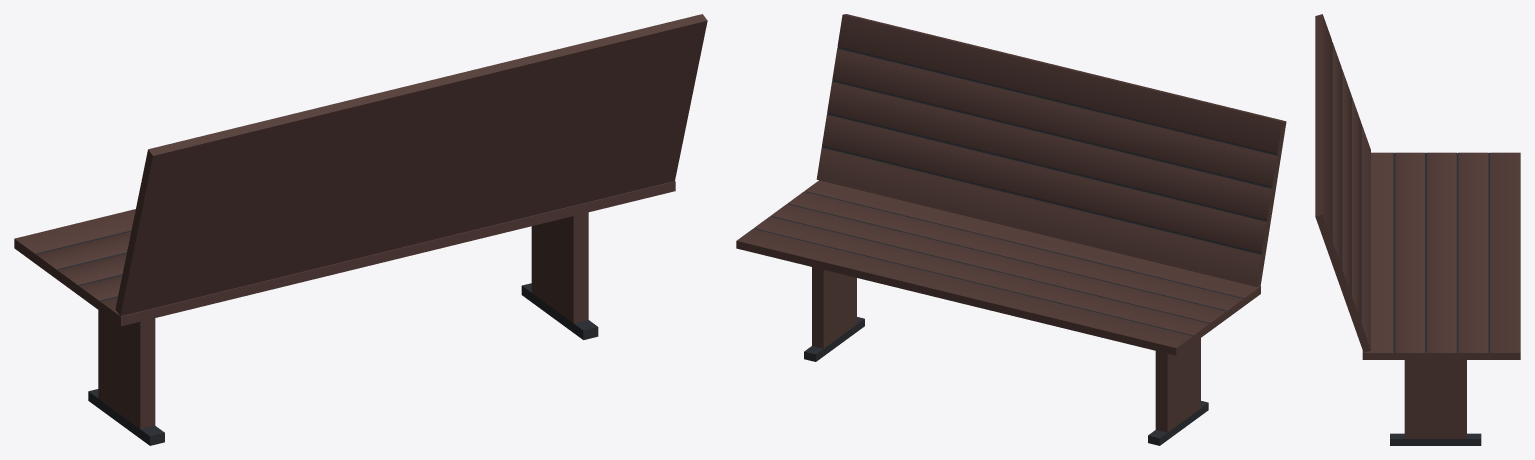
Rendered from Bench1.fbx.
3 renders of one model, left to right at view 1: azimuth 30°, elevation 25°; view 2: azimuth 150°, elevation 25°; view 3: azimuth 270°, elevation 25°, orthographic. The views are drawn at different scales.
Visible parts, largest first — view 1: top, Bench, Leg1, Leg2; view 2: top, Bench, Leg1, Leg2; view 3: Bench, top, Leg2.
Part boxes in pixels (left/top/right/bottom): top: left=115, top=14, right=707, bottom=315; Bench: left=14, top=181, right=675, bottom=326; Leg1: left=88, top=310, right=164, bottom=445; Leg2: left=521, top=212, right=598, bottom=339; top: left=816, top=14, right=1286, bottom=286; Bench: left=736, top=180, right=1260, bottom=355; Leg1: left=1148, top=338, right=1208, bottom=445; Leg2: left=804, top=267, right=864, bottom=361; Bench: left=1362, top=152, right=1520, bottom=359; top: left=1315, top=14, right=1370, bottom=352; Leg2: left=1390, top=360, right=1481, bottom=445.
Size of the model in its own units: 70.87 by 41.71 by 30.73.
